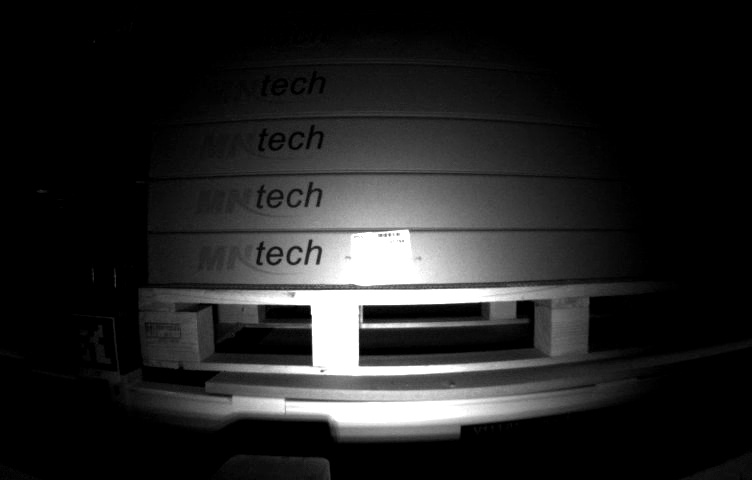True Barcode: (346, 229, 419, 280)
